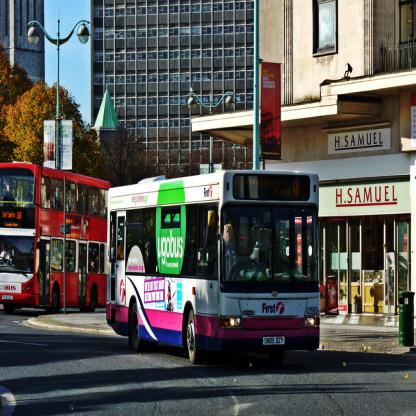Bus: (108, 168, 320, 364), (0, 160, 111, 313)
